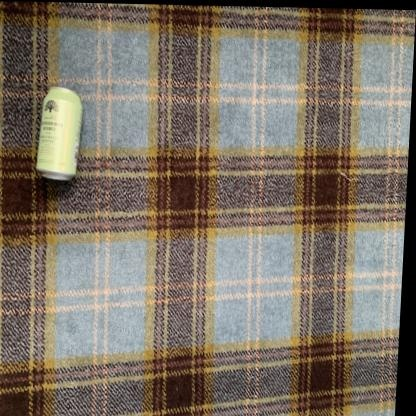trash: (36, 87, 81, 180)
